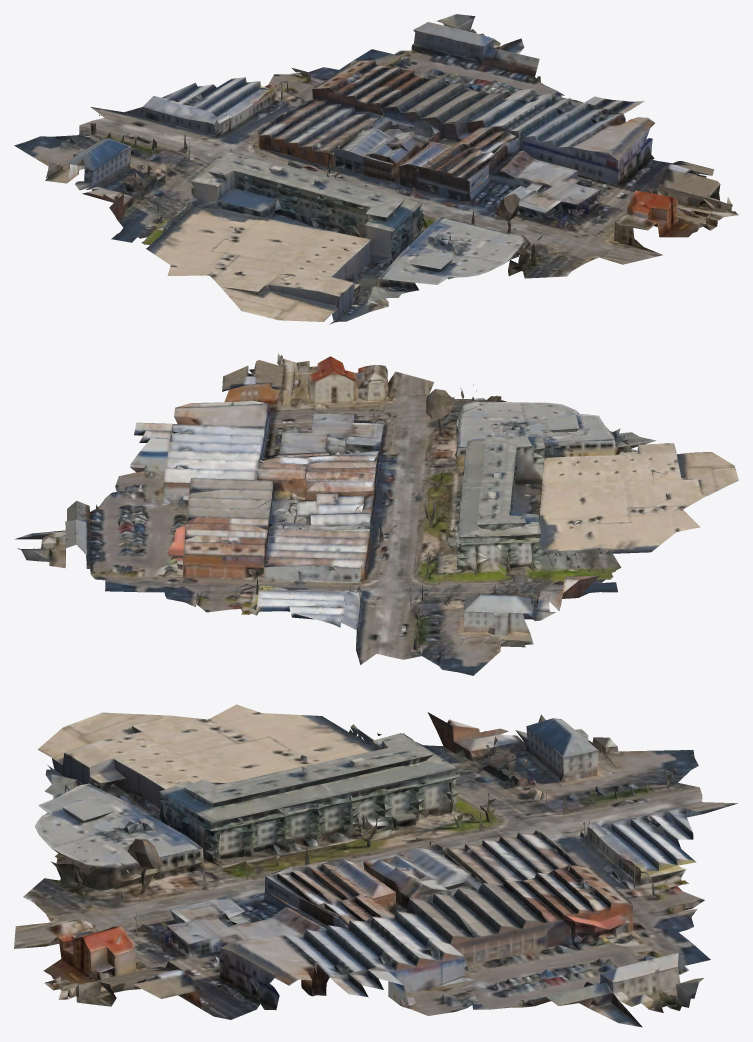
Rendered from Tile_010_010_L17.gltf.
The picture shows the model from 3 angles, top to bottom: view 1: azimuth 30°, elevation 25°; view 2: azimuth 150°, elevation 25°; view 3: azimuth 270°, elevation 25°; orthographic projection. The views are drawn at different scales.
Parts seen in each view (by area): view 1: Tile_+010_+010_L17; view 2: Tile_+010_+010_L17; view 3: Tile_+010_+010_L17.
Boxes of the visible parts, <box> form: Tile_+010_+010_L17: <box>14,14,738,324</box>; Tile_+010_+010_L17: <box>15,353,738,675</box>; Tile_+010_+010_L17: <box>14,704,737,1027</box>.
Size of the model in its own units: 234 by 23.68 by 235.
Materials: 1 (1 with a texture image).
